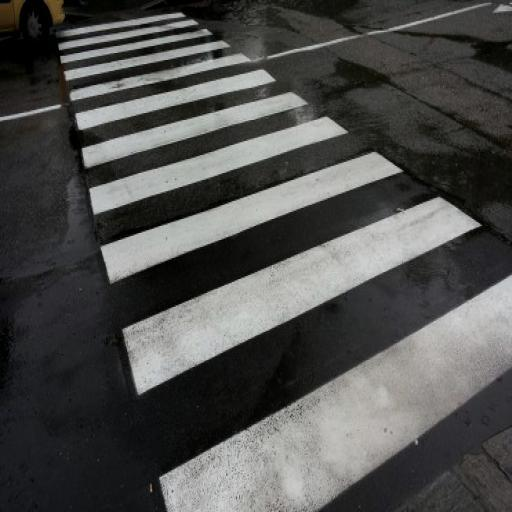crosswalk: (86, 110, 406, 292)
